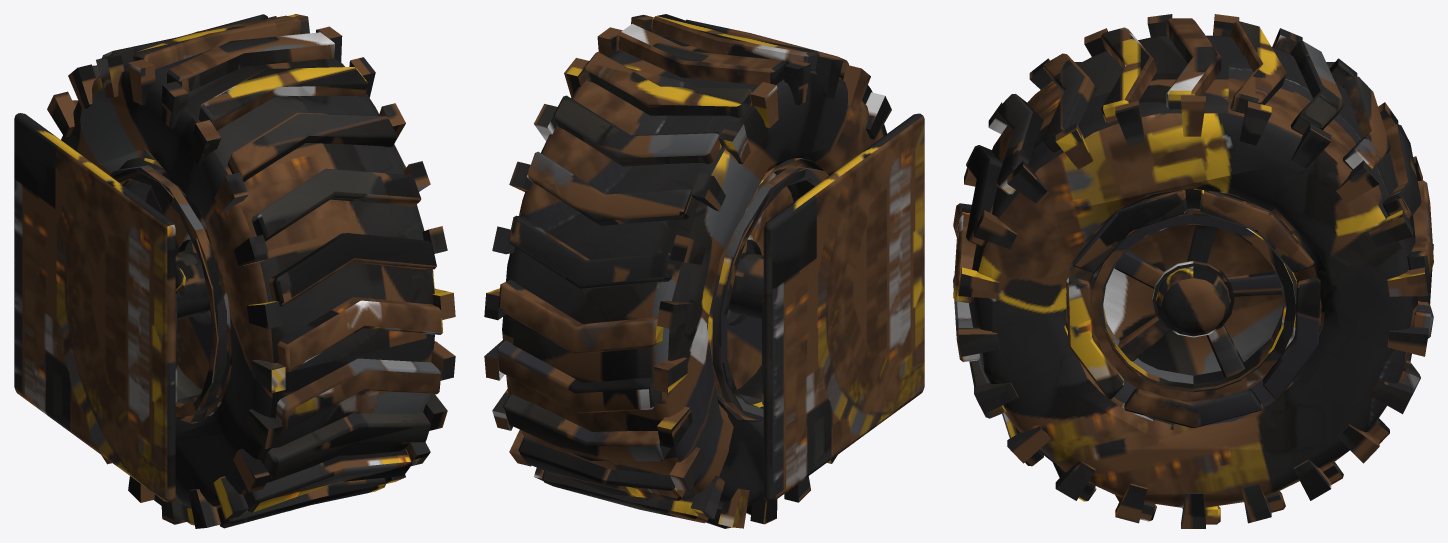
The model's file is R4M_WheelM_Side_Offroad_LOD1.fbx.
3 renders of one model, left to right at view 1: azimuth 30°, elevation 25°; view 2: azimuth 150°, elevation 25°; view 3: azimuth 270°, elevation 25°, orthographic.
Parts seen in each view (by area): view 1: R4M_WheelM_Side_Offroad_LOD1; view 2: R4M_WheelM_Side_Offroad_LOD1; view 3: R4M_WheelM_Side_Offroad_LOD1.
Boxes of the visible parts, x1=… form: R4M_WheelM_Side_Offroad_LOD1: x1=14, y1=14, x2=455, y2=528; R4M_WheelM_Side_Offroad_LOD1: x1=484, y1=14, x2=924, y2=528; R4M_WheelM_Side_Offroad_LOD1: x1=953, y1=14, x2=1433, y2=528.
Size of the model in its own units: 0.451 by 0.772 by 0.7755.
